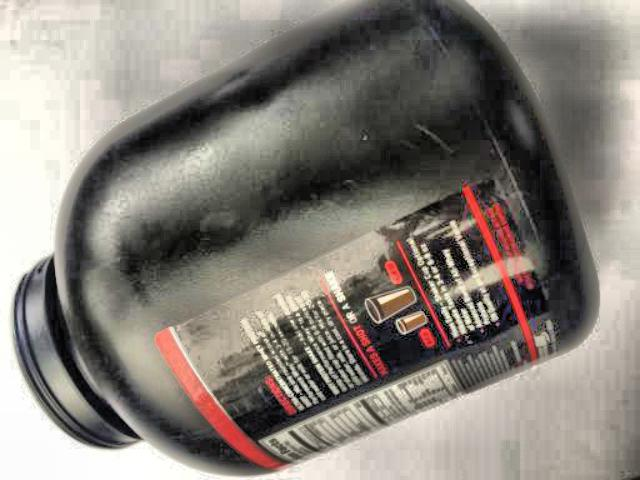Plastic: (4, 10, 603, 474)
